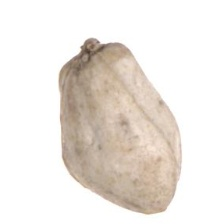L1: (56, 37, 122, 64), (122, 200, 180, 215)
L2: (57, 38, 183, 215)
